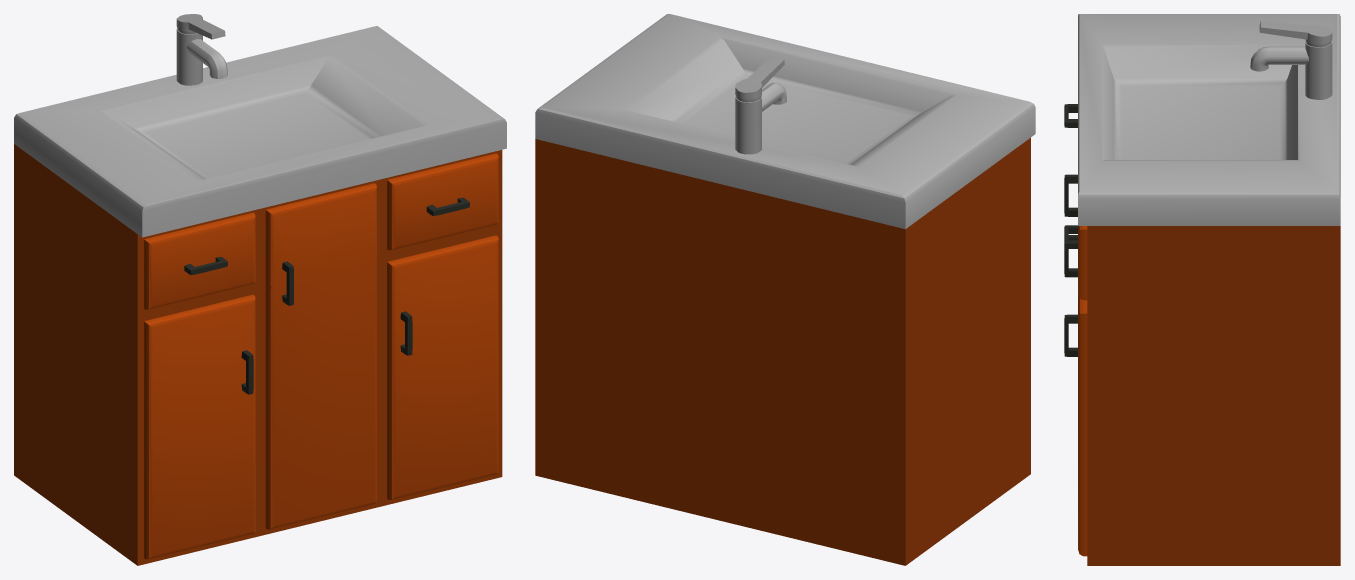
The model's file is Sink.fbx.
3 renders of one model, left to right at view 1: azimuth 30°, elevation 25°; view 2: azimuth 150°, elevation 25°; view 3: azimuth 270°, elevation 25°, orthographic. The views are drawn at different scales.
Parts seen in each view (by area): view 1: Cube.014; view 2: Cube.014; view 3: Cube.014.
Boxes of the visible parts, <box> form: Cube.014: <box>14,14,506,565</box>; Cube.014: <box>535,14,1035,565</box>; Cube.014: <box>1064,14,1340,565</box>.
Bounding box in the file's own units: 114 × 129 × 73.27.
1 material, 1 textured.
